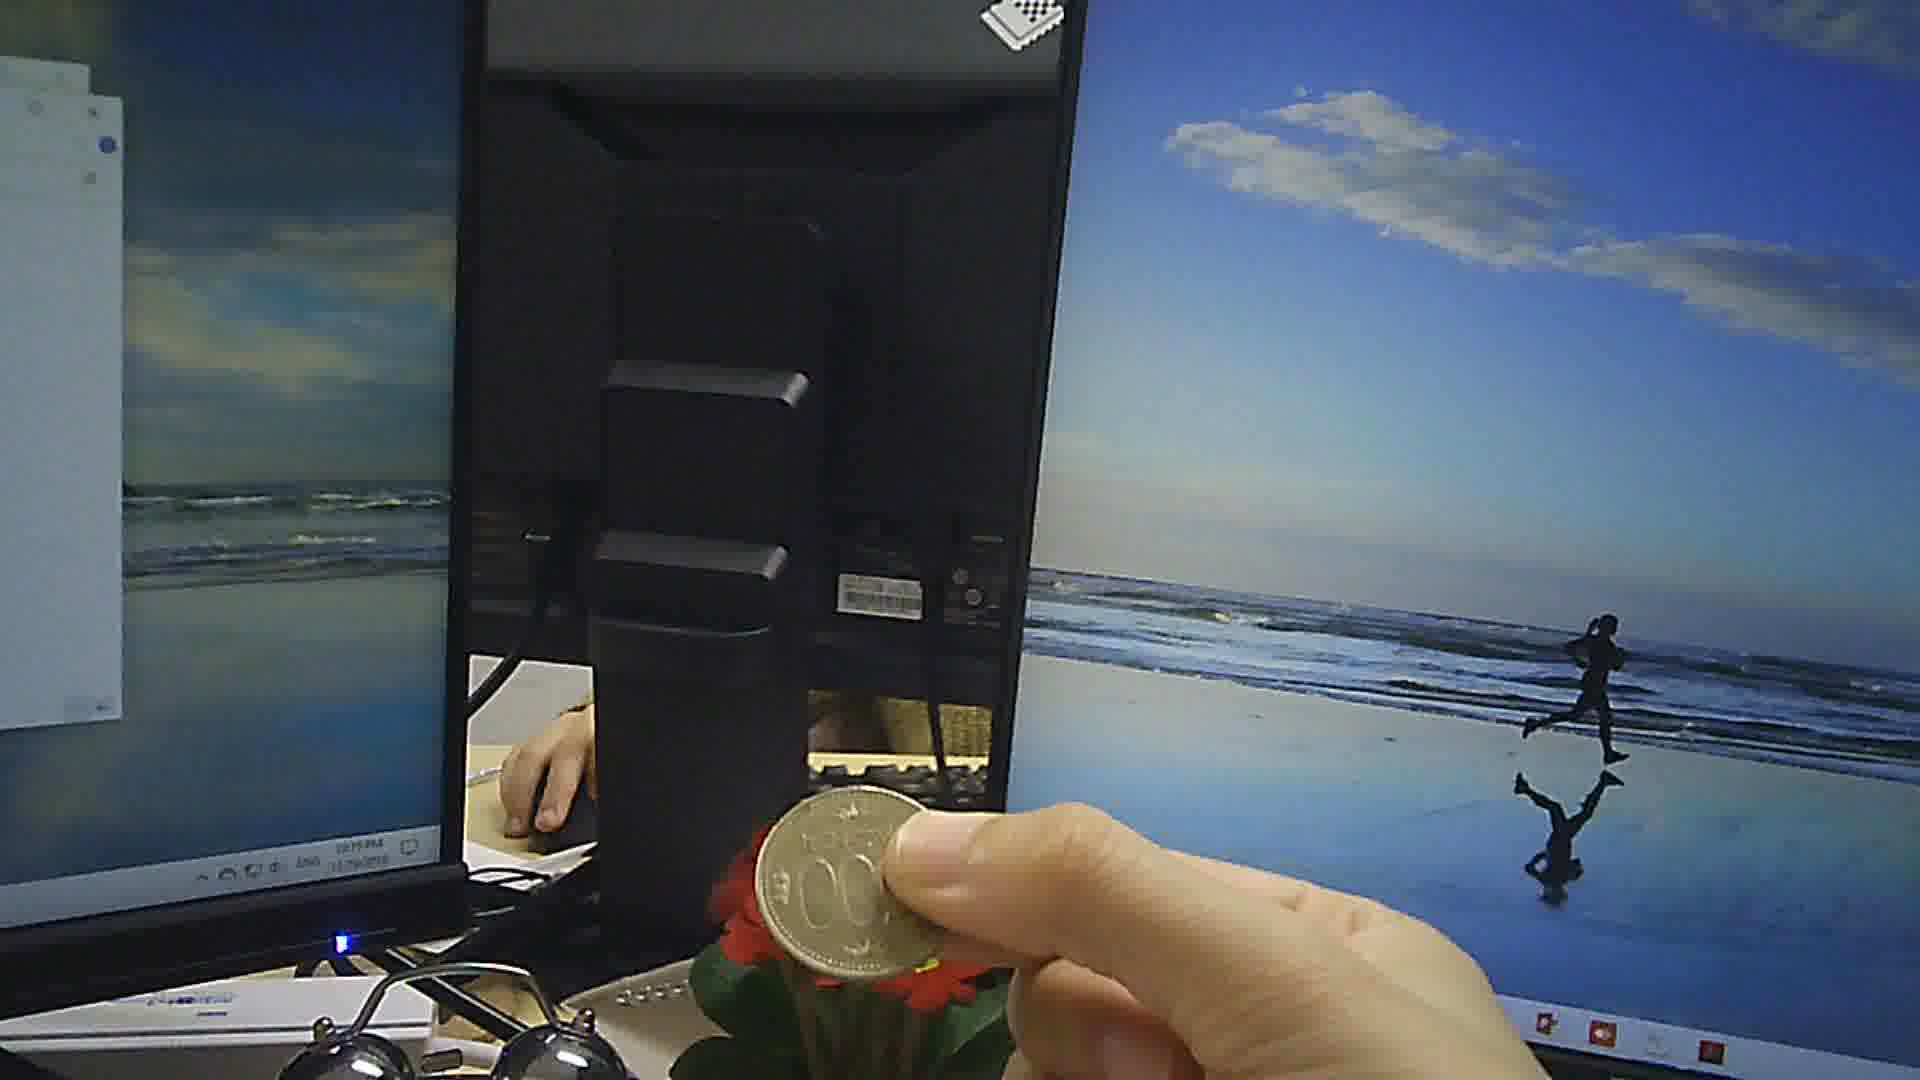500 Yen: (756, 786, 976, 986)
